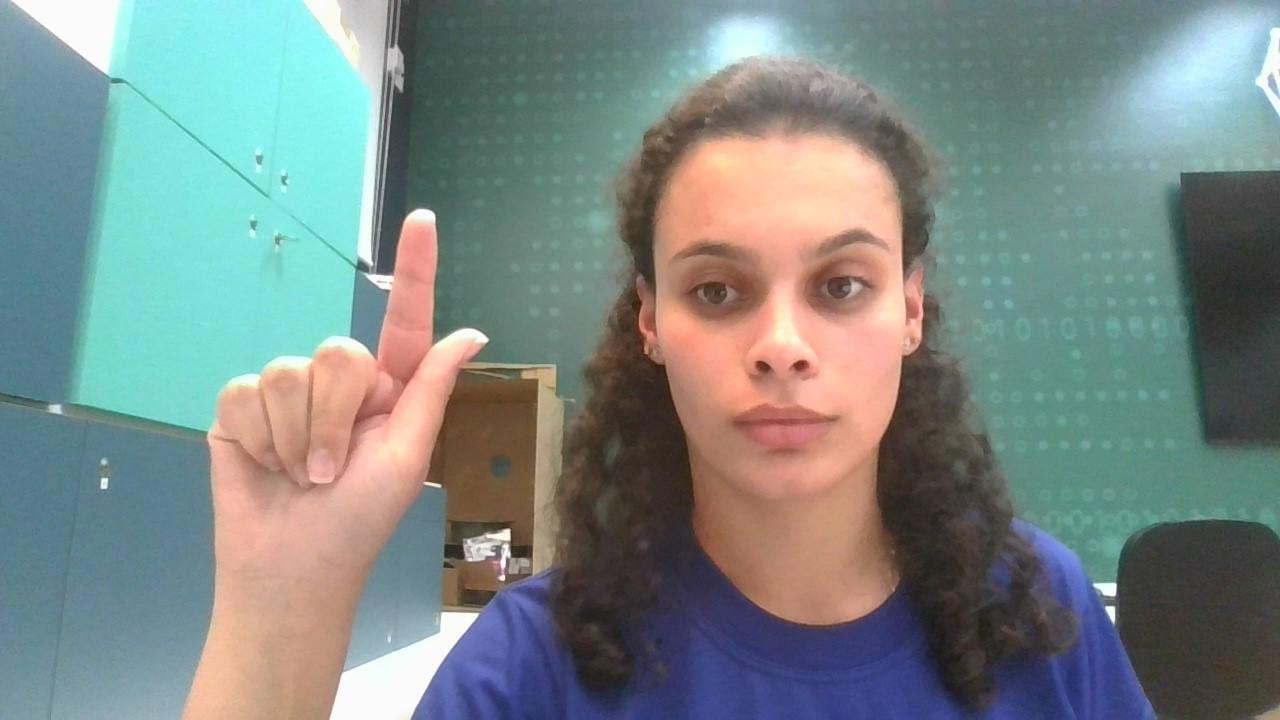G: (199, 201, 488, 560)
